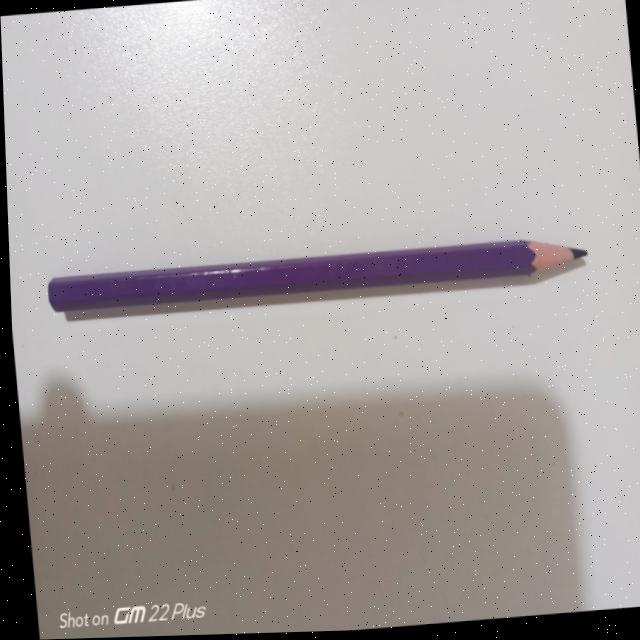pencil: (44, 224, 589, 330)
